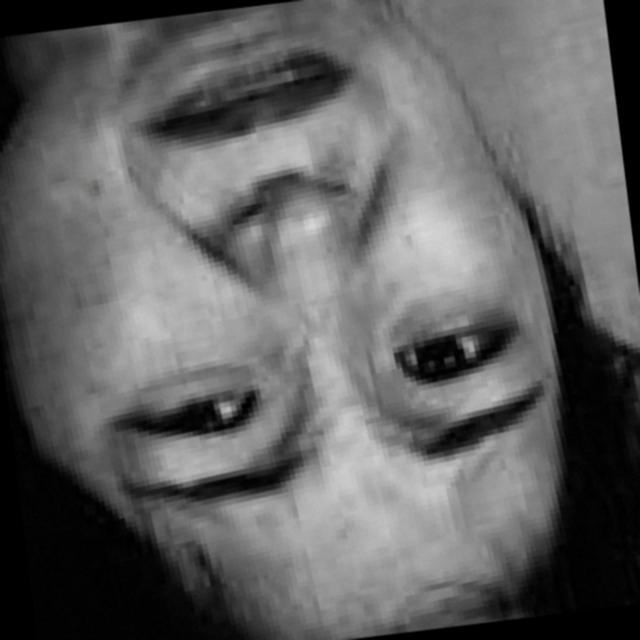disgust: (46, 0, 640, 633)
